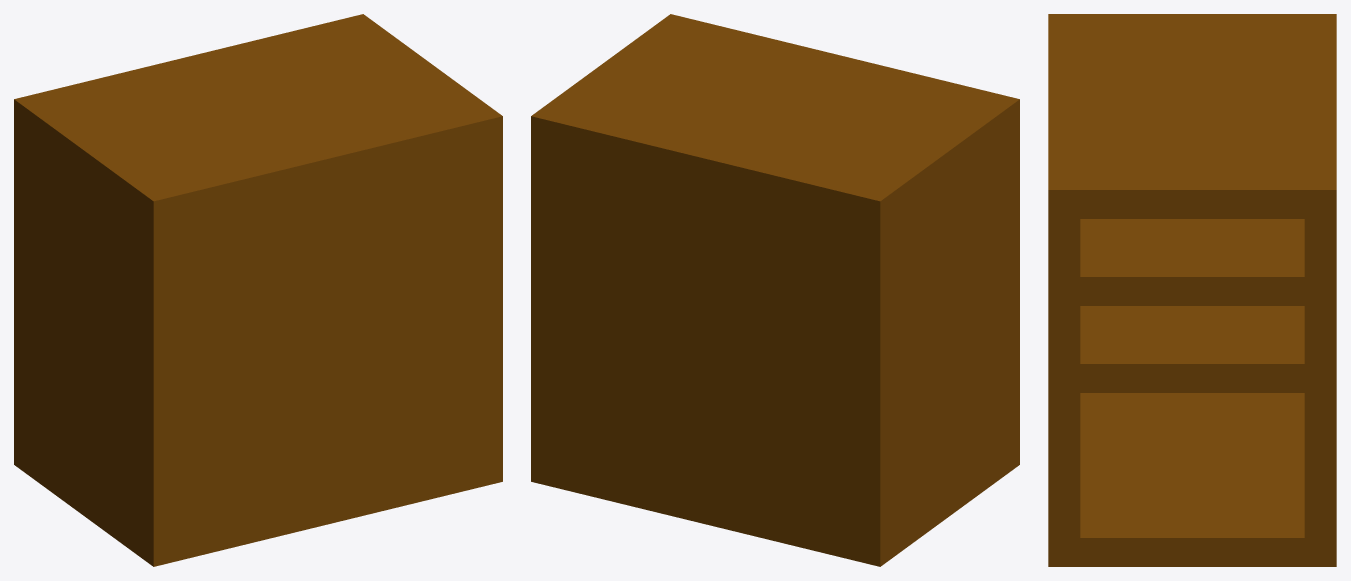
File: Cabinet00-frame.gltf
3 views of the same model, side by side, from view 1: azimuth 30°, elevation 25°; view 2: azimuth 150°, elevation 25°; view 3: azimuth 270°, elevation 25° (orthographic). The views are drawn at different scales.
Visible parts, largest first — view 1: Layer.1; view 2: Layer.1; view 3: Layer.1.
Part boxes in pixels (x1=…): Layer.1: x1=14, y1=14, x2=502, y2=566; Layer.1: x1=531, y1=14, x2=1019, y2=566; Layer.1: x1=1048, y1=14, x2=1336, y2=566.
Bounding box in the file's own units: 13 × 13 × 9.
